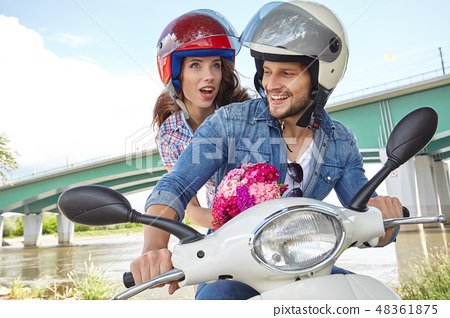helmet: (248, 5, 347, 87), (158, 15, 234, 63)
